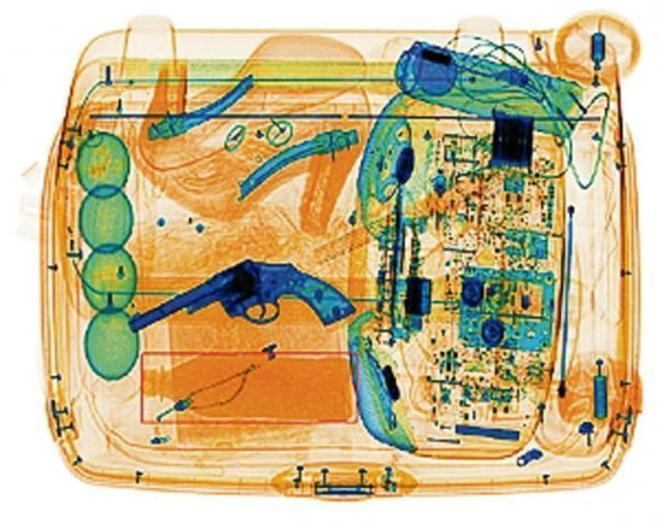Gun: (127, 257, 357, 333)
